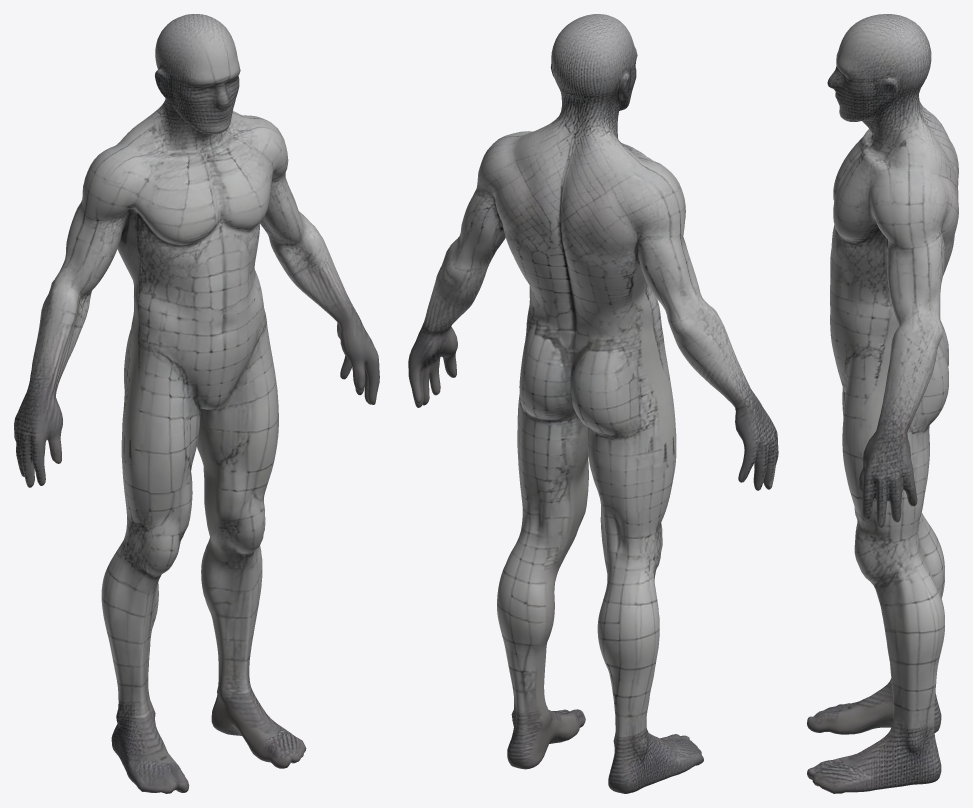
The model's file is suspect_biometric.glb.
3 renders of one model, left to right at view 1: azimuth 30°, elevation 25°; view 2: azimuth 150°, elevation 25°; view 3: azimuth 270°, elevation 25°, orthographic.
Visible parts, largest first — view 1: Object_2; view 2: Object_2; view 3: Object_2.
Part boxes in pixels (x1,y1,x2,y2): Object_2: (14,14,379,793); Object_2: (408,14,778,793); Object_2: (807,14,958,793).
Size of the model in its own units: 0.9618 by 1.91 by 0.3559.
1 material, 1 textured.
